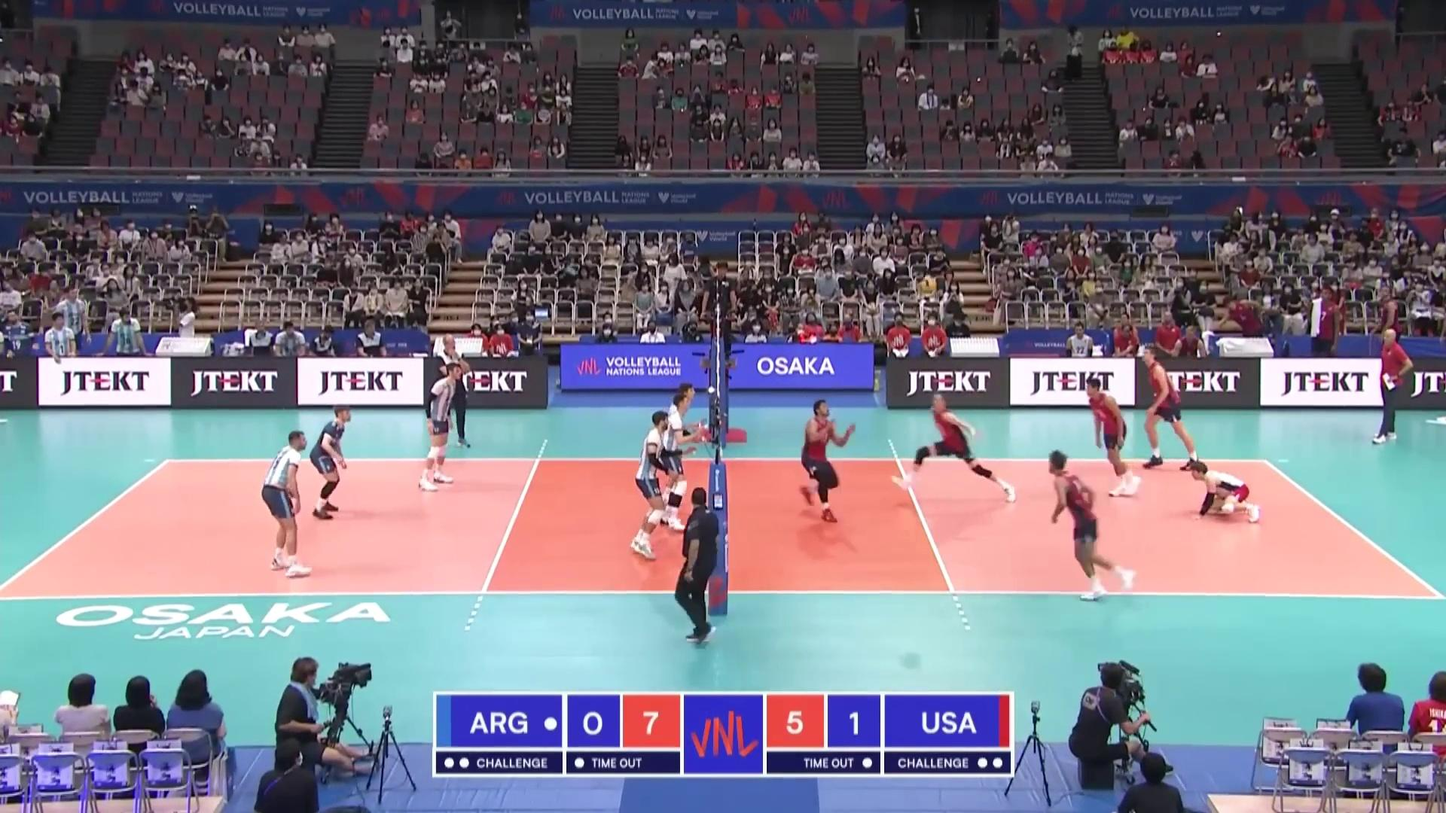player: (1045, 451, 1136, 603), (892, 394, 1017, 501), (261, 430, 313, 579), (1140, 346, 1199, 471), (1085, 377, 1141, 499), (799, 400, 853, 526), (630, 409, 666, 563), (419, 364, 461, 491), (659, 394, 696, 536), (308, 405, 352, 518), (1189, 463, 1263, 527), (663, 383, 700, 506)
refree: (676, 487, 721, 646), (705, 259, 736, 372)
